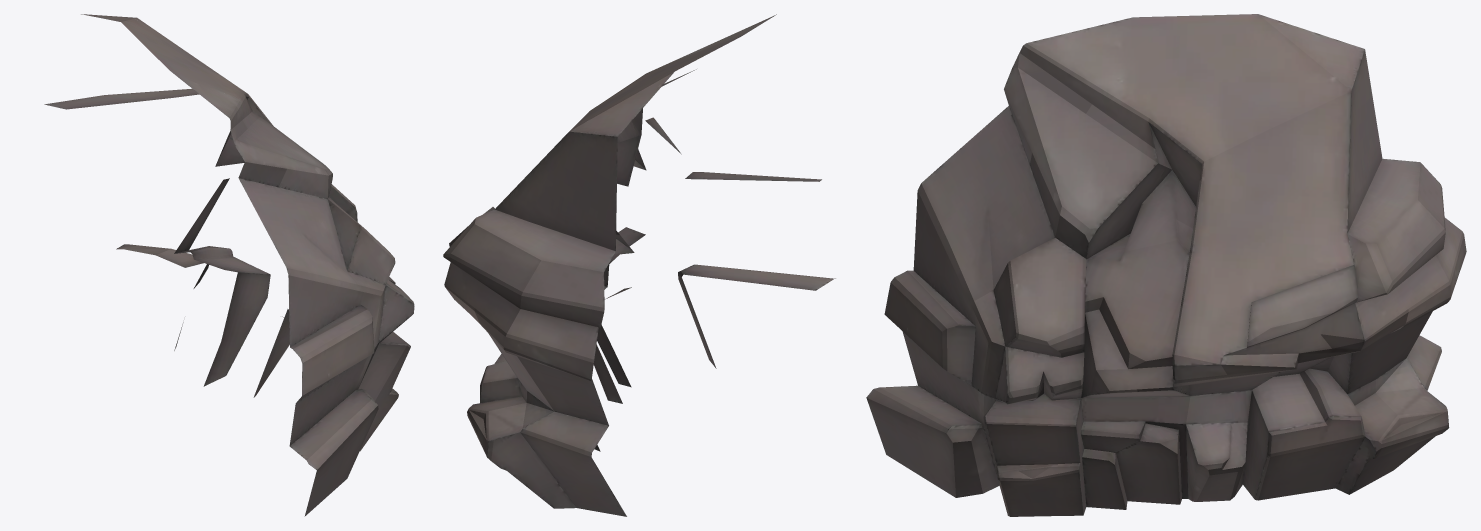
3 views of the same model, side by side, from view 1: azimuth 30°, elevation 25°; view 2: azimuth 150°, elevation 25°; view 3: azimuth 270°, elevation 25° (orthographic). The views are drawn at different scales.
Visible parts, largest first — view 1: body0_model0_lod0_mesh0; view 2: body0_model0_lod0_mesh0; view 3: body0_model0_lod0_mesh0.
Part boxes in pixels (x1,y1,x2,y2): body0_model0_lod0_mesh0: (44,14,414,516); body0_model0_lod0_mesh0: (443,14,835,516); body0_model0_lod0_mesh0: (866,14,1466,516).
Size of the model in its own units: 551 by 933 by 1174.
1 material, 1 textured.
